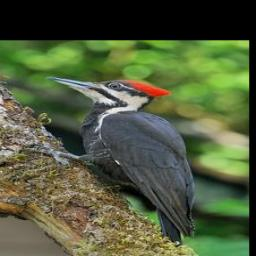Woodpecker: (25, 75, 211, 248)
